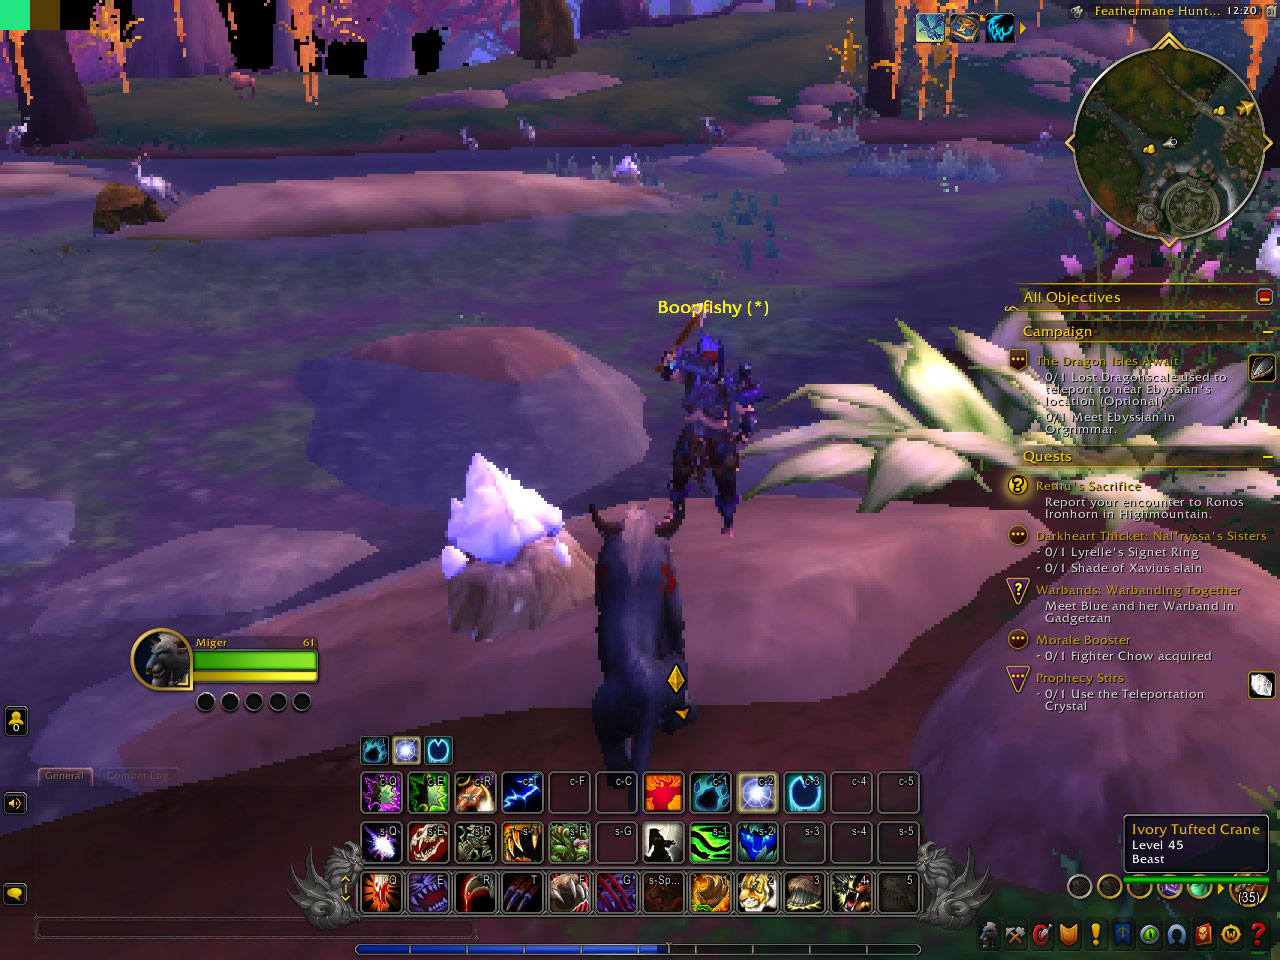ore: (438, 454, 596, 646), (610, 158, 642, 186)
